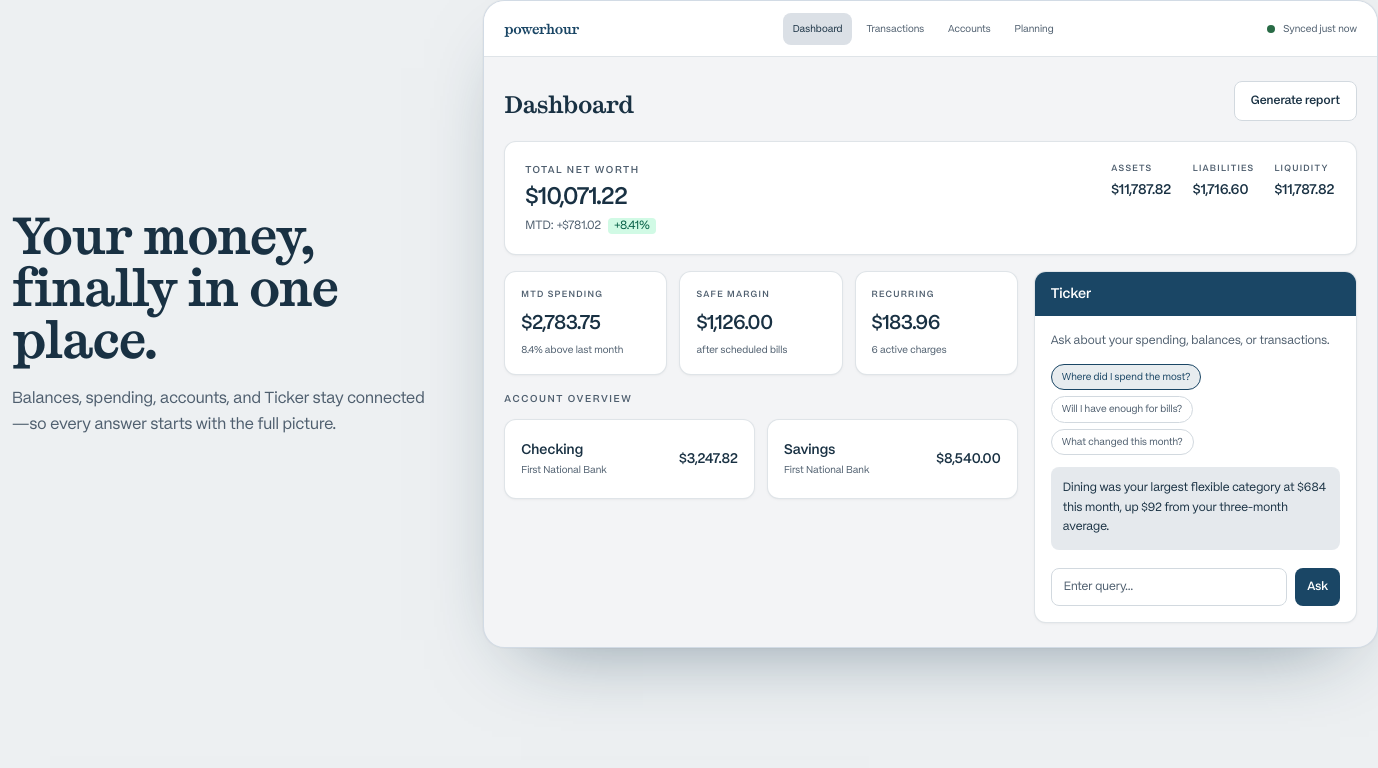
ProductWorkspace › shows the report-preview confirmation after generation
Click the button "Generate report".
click(1295, 101)  # box [1234,81,1357,121]
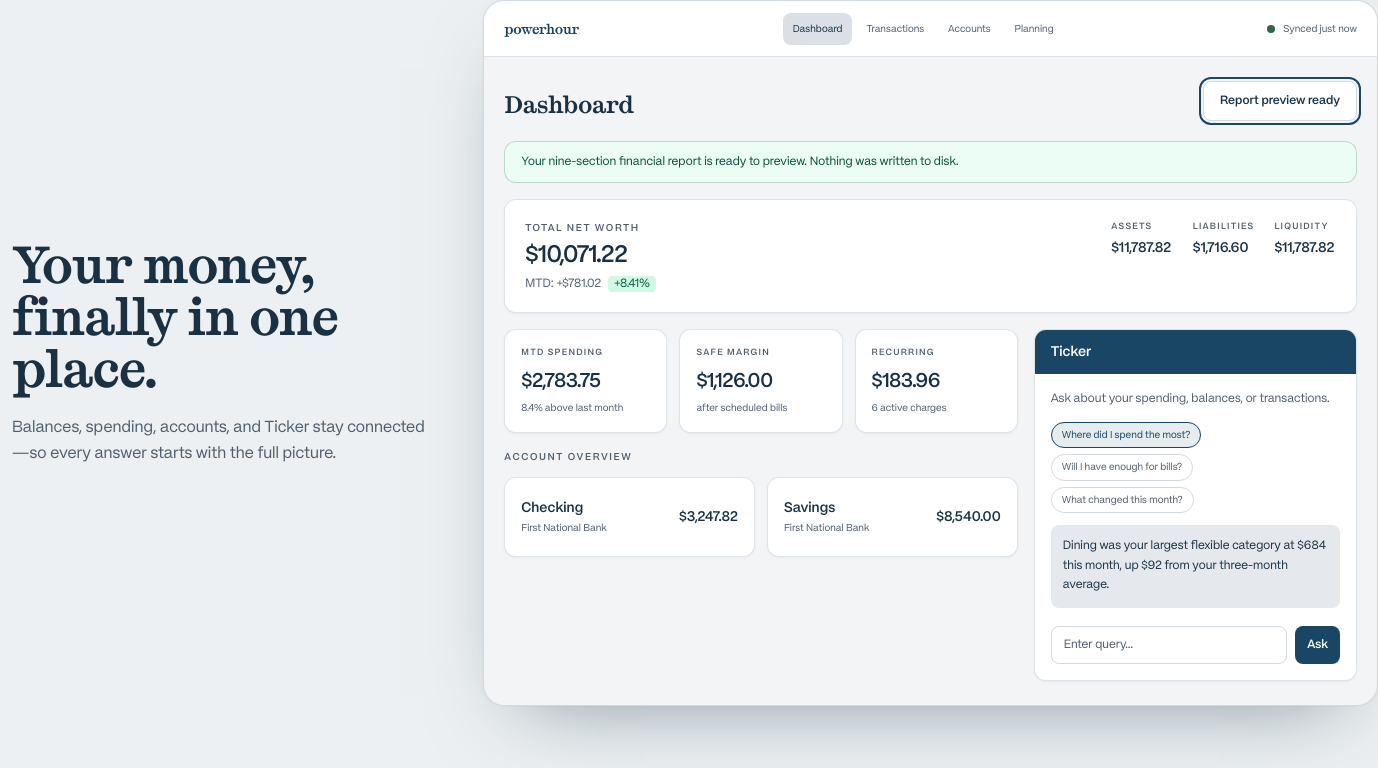
Result: the button "Report preview ready" is shown at [1203,81,1357,121]
Result: the text "nine-section financial report is ready to preview" is shown at [521,156,959,168]
